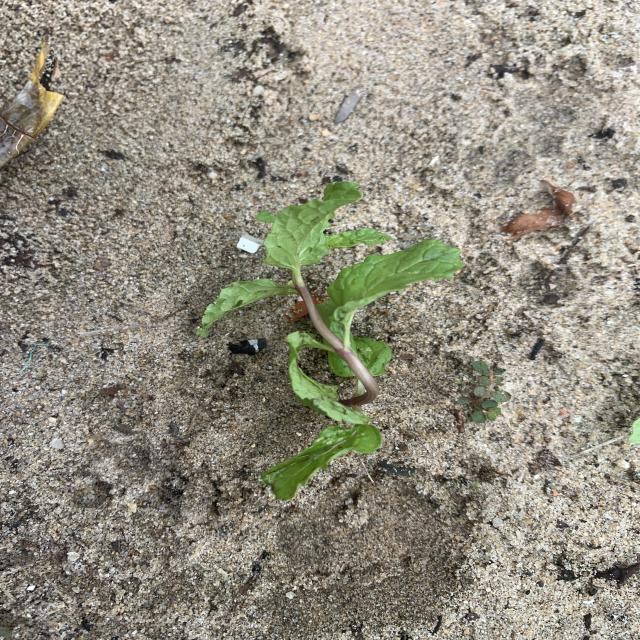crop: (195, 182, 462, 470)
weed: (457, 360, 511, 424)
